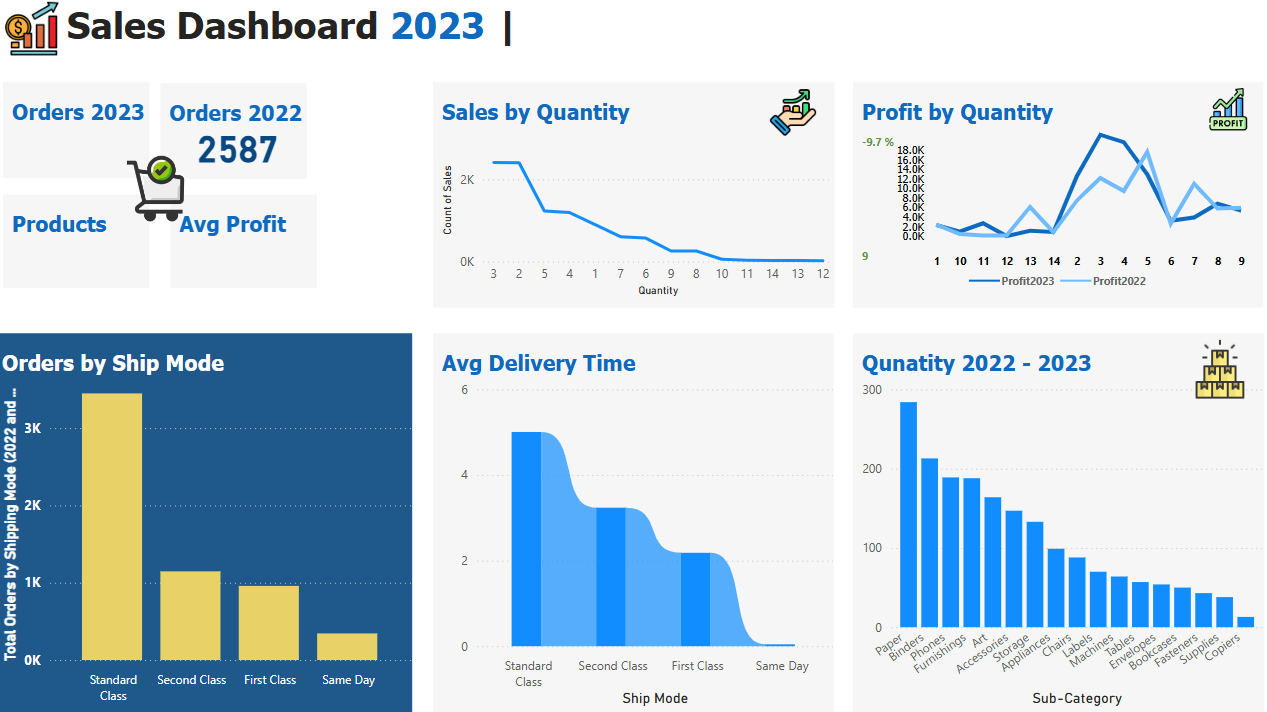

What the dashboard file says about the page in this screenshot:
{"tool":"powerbi","page":{"name":"Page 2","canvas":[1280,720],"ordinal":1},"visuals":[{"type":"lineChart","title":"Sales by Quantity","fields":{"Category":["Orders.Quantity"],"Y":["CountNonNull(Orders.Sales)"]},"box":[440,84.8,401.3,225.6],"z":2000},{"type":"image","box":[760.6,85.6,80.7,61.1],"z":3000},{"type":"powerKPI462CE5C2666F4EC8A8BDD7E5587320A3","title":"Profit by Quantity","fields":{"Axis":["Orders.Quantity"],"Values":["Customers.Profit2023","Customers.Profit 2022"]},"box":[860,84.8,410,225.6],"z":4000},{"type":"image","box":[1201.5,86,68.5,52.3],"z":5000},{"type":"clusteredColumnChart","title":"Orders by Ship Mode","fields":{"Category":["Orders.Ship Mode"],"Y":["Customers.Total Orders by Shipping Mode"]},"box":[0,336.3,419.4,384],"z":6000},{"type":"lineStackedColumnComboChart","title":"Qunatity 2022 - 2023","fields":{"Category":["Products.Sub-Category"],"Y":["CountNonNull(Products.Product ID)"]},"box":[859.7,336.3,410.9,384],"z":7000},{"type":"image","box":[1183.7,336.3,86.8,72.1],"z":8000},{"type":"ribbonChart","title":"Avg Delivery Time","fields":{"Category":["Orders.Ship Mode"],"Y":["Customers.Avg Delivery Time (No Filter)"]},"box":[440.2,336.3,401.1,384],"z":9000},{"type":"advanceCardE03760C5AB684758B56AA29F9E6C257B","title":"Orders 2023","fields":{"mainMeasure":["Orders.Orders 2023"]},"box":[10,85,146.2,96.2],"z":9001},{"type":"advanceCardE03760C5AB684758B56AA29F9E6C257B","title":"Orders 2022","fields":{"mainMeasure":["Orders.Orders 2022"]},"box":[167.5,86.2,146.2,96.2],"z":9002},{"type":"advanceCardE03760C5AB684758B56AA29F9E6C257B","title":"Products","fields":{"mainMeasure":["Count(Orders.Product ID)"]},"box":[10,197.5,146.2,93.8],"z":9003},{"type":"advanceCardE03760C5AB684758B56AA29F9E6C257B","title":"Avg Profit","fields":{"mainMeasure":["Avg(Orders.Profit)"]},"box":[177.5,197.5,146.2,93.8],"z":9005},{"type":"image","box":[125,150,75,83.8],"z":9006},{"type":"textbox","box":[68.8,0,511.2,63.8],"z":9007},{"type":"image","box":[0,0,77.5,63.8],"z":9008}]}

Visuals, with their boxes in screenshot pixels (x1, y1, x2, y2), scaled from the page's 1280x720 canvas onto the 1267x712 screenshot:
"Sales by Quantity" lineChart: region(436, 84, 833, 307)
image: region(753, 85, 833, 145)
"Profit by Quantity" powerKPI462CE5C2666F4EC8A8BDD7E5587320A3: region(851, 84, 1257, 307)
image: region(1189, 85, 1257, 137)
"Orders by Ship Mode" clusteredColumnChart: region(0, 333, 415, 711)
"Qunatity 2022 - 2023" lineStackedColumnComboChart: region(851, 333, 1258, 711)
image: region(1172, 333, 1258, 404)
"Avg Delivery Time" ribbonChart: region(436, 333, 833, 711)
"Orders 2023" advanceCardE03760C5AB684758B56AA29F9E6C257B: region(10, 84, 155, 179)
"Orders 2022" advanceCardE03760C5AB684758B56AA29F9E6C257B: region(166, 85, 311, 180)
"Products" advanceCardE03760C5AB684758B56AA29F9E6C257B: region(10, 195, 155, 288)
"Avg Profit" advanceCardE03760C5AB684758B56AA29F9E6C257B: region(176, 195, 320, 288)
image: region(124, 148, 198, 231)
textbox: region(68, 0, 574, 63)
image: region(0, 0, 77, 63)
